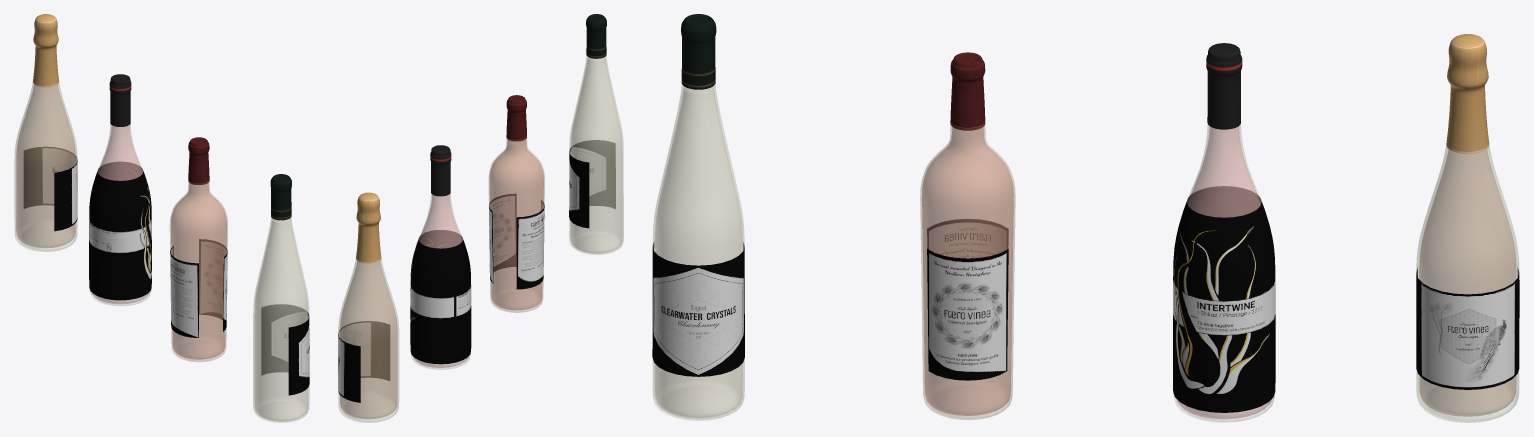
Rendered from wine_bottles_01_1k.gltf.
3 views of the same model, side by side, from view 1: azimuth 30°, elevation 25°; view 2: azimuth 150°, elevation 25°; view 3: azimuth 270°, elevation 25° (orthographic). The views are drawn at different scales.
Parts seen in each view (by area): view 1: wine_bottles_01_champagne, wine_bottles_01_alsace, wine_bottles_01_burgundy, wine_bottles_01_bordeaux; view 2: wine_bottles_01_champagne, wine_bottles_01_alsace, wine_bottles_01_burgundy, wine_bottles_01_bordeaux; view 3: wine_bottles_01_champagne, wine_bottles_01_alsace, wine_bottles_01_burgundy, wine_bottles_01_bordeaux.
Boxes of the visible parts, x1=… form: wine_bottles_01_champagne: x1=14, y1=14, x2=77, y2=251; wine_bottles_01_alsace: x1=253, y1=174, x2=309, y2=422; wine_bottles_01_burgundy: x1=89, y1=74, x2=151, y2=305; wine_bottles_01_bordeaux: x1=170, y1=137, x2=227, y2=361; wine_bottles_01_champagne: x1=338, y1=192, x2=398, y2=422; wine_bottles_01_alsace: x1=569, y1=14, x2=623, y2=254; wine_bottles_01_burgundy: x1=410, y1=145, x2=471, y2=369; wine_bottles_01_bordeaux: x1=488, y1=95, x2=544, y2=312; wine_bottles_01_champagne: x1=1416, y1=34, x2=1519, y2=422; wine_bottles_01_alsace: x1=652, y1=14, x2=744, y2=420; wine_bottles_01_burgundy: x1=1173, y1=43, x2=1275, y2=422; wine_bottles_01_bordeaux: x1=920, y1=52, x2=1015, y2=419.
Bounding box in the file's own units: 0.0806 × 0.3314 × 0.6763.
12 materials, 9 textured.
